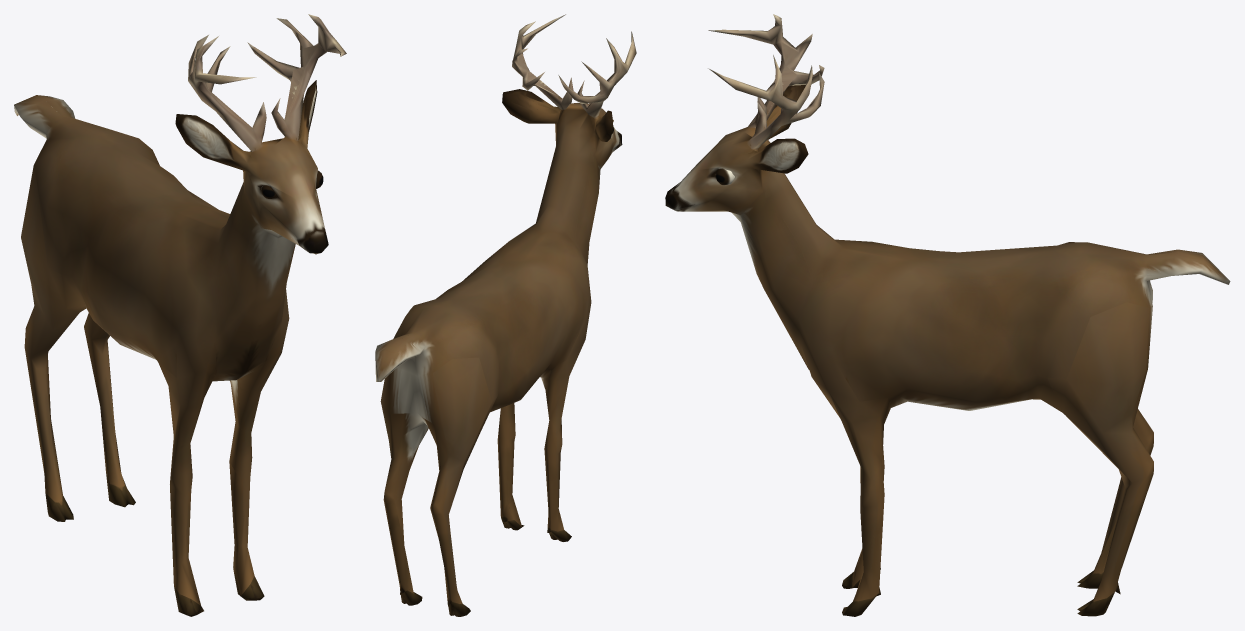
The model's file is buck02.dae.
The picture shows the model from 3 angles, left to right: view 1: azimuth 30°, elevation 25°; view 2: azimuth 150°, elevation 25°; view 3: azimuth 270°, elevation 25°; orthographic projection. The views are drawn at different scales.
Parts seen in each view (by area): view 1: Deer-lowP; view 2: Deer-lowP; view 3: Deer-lowP.
Part boxes in pixels (left/top/right/bottom): Deer-lowP: left=14, top=14, right=346, bottom=616; Deer-lowP: left=375, top=14, right=636, bottom=616; Deer-lowP: left=665, top=14, right=1230, bottom=616.
Bounding box in the file's own units: 1.8 × 6.77 × 7.48.
Materials: 2 (2 with a texture image).
